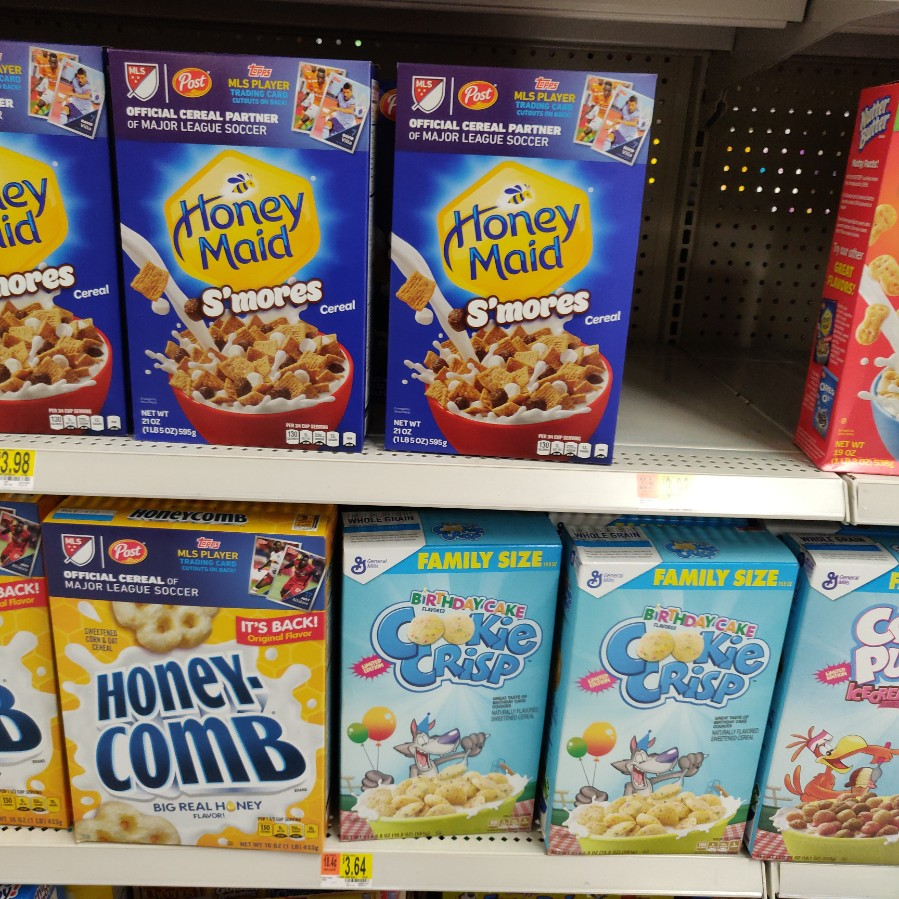Honey Comb- 009288857: (52, 507, 336, 861)
